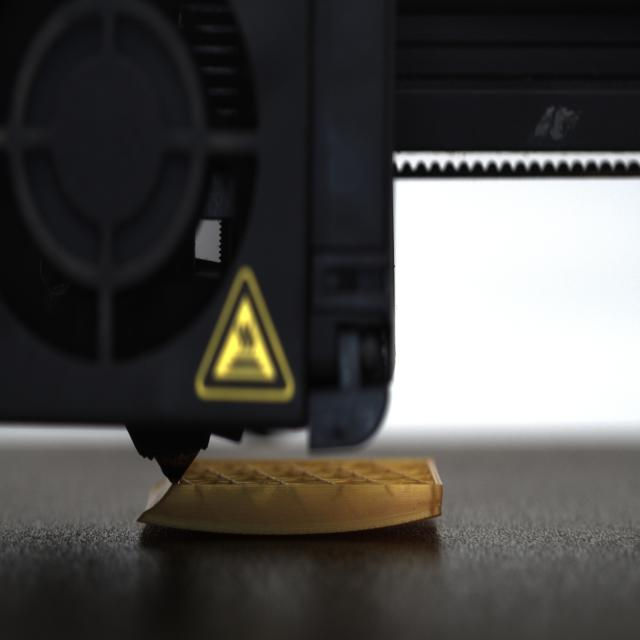Warping: (340, 504, 444, 540)
